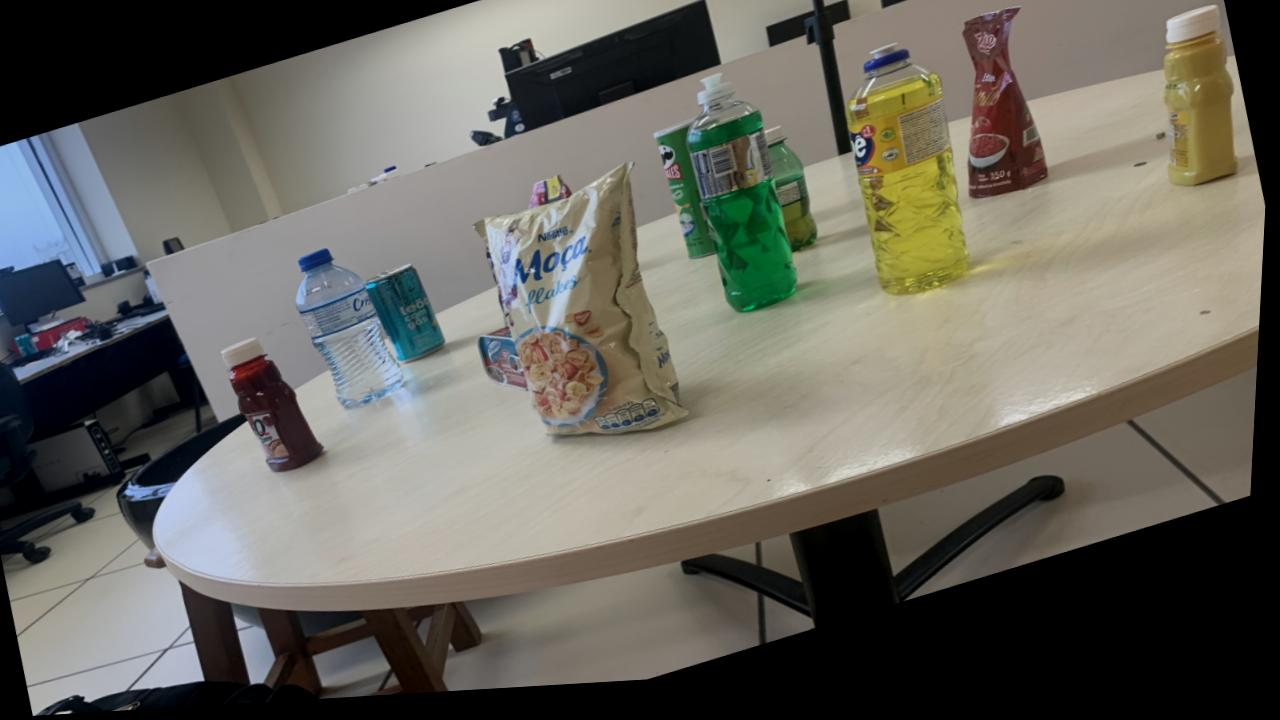Detergent-Cleanup_Items: (847, 55, 973, 306), (688, 83, 801, 321)
Flakes-Snacks: (477, 171, 692, 442)
Guarana-Drinks: (765, 136, 821, 263)
Ketchup-Pantry_Items: (225, 341, 329, 476)
Mustard-Pantry_Items: (1165, 20, 1241, 201)
Pringles-Snacks: (656, 129, 718, 267)
Tea-Drinks: (369, 270, 450, 367)
Tomato_Sauce-Pantry_Items: (963, 19, 1051, 211)
Tuna_Can-Pantry_Items: (481, 334, 532, 397)
Water_Bottle-Drinks: (299, 253, 408, 413)
